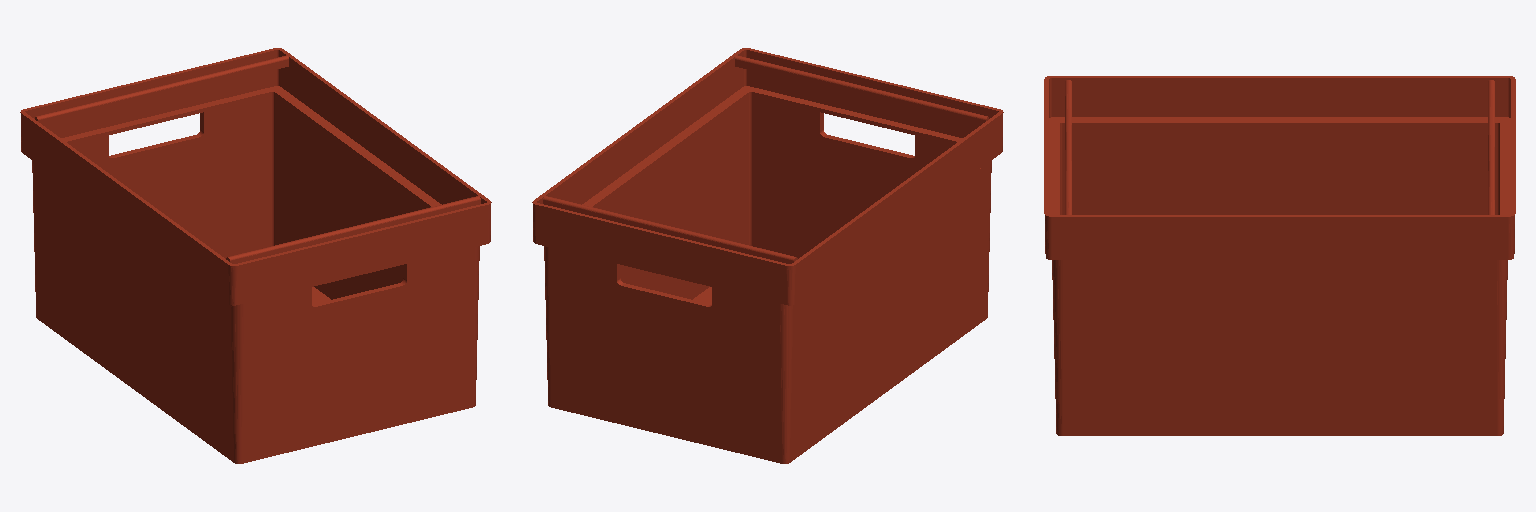
The robot description file, URDF, robot "box":
<?xml version="1.0"?>
<robot name="box">
  <link name="base_link">
    <visual>
      <origin xyz="0 0.55 0" rpy="0 0 0" />
      <geometry>
        <mesh filename="package://ur_description/meshes/box.dae"/>
      </geometry>
    </visual>
    <collision>
      <origin xyz="0 0.55 0" rpy="0 0 0" />
      <geometry>
        <mesh filename="package://ur_description/meshes/box.dae"/>
      </geometry>
    </collision>
  </link>
</robot>

--- What the picture shows (computed from the rendered views, not written in the file) ---
Views: 3 orthographic renders of the robot side by side, from view 1: azimuth 30°, elevation 25°; view 2: azimuth 150°, elevation 25°; view 3: azimuth 270°, elevation 25°.
Robot: box — 1 links, 0 joints (none); root link base_link; default pose: every joint at zero.
Visible links, largest first — view 1: base_link; view 2: base_link; view 3: base_link.
Boxes of the visible links, x1,y1,x2,y2 form: base_link: (20,48,491,463); base_link: (532,48,1003,463); base_link: (1044,76,1515,435).
Bounding box of the posed robot: 0.1462 × 0.2063 × 0.1089 m (x, y, z).
Meshes: 1 distinct files referenced, 1 mesh visuals loaded (1 Collada DAE).